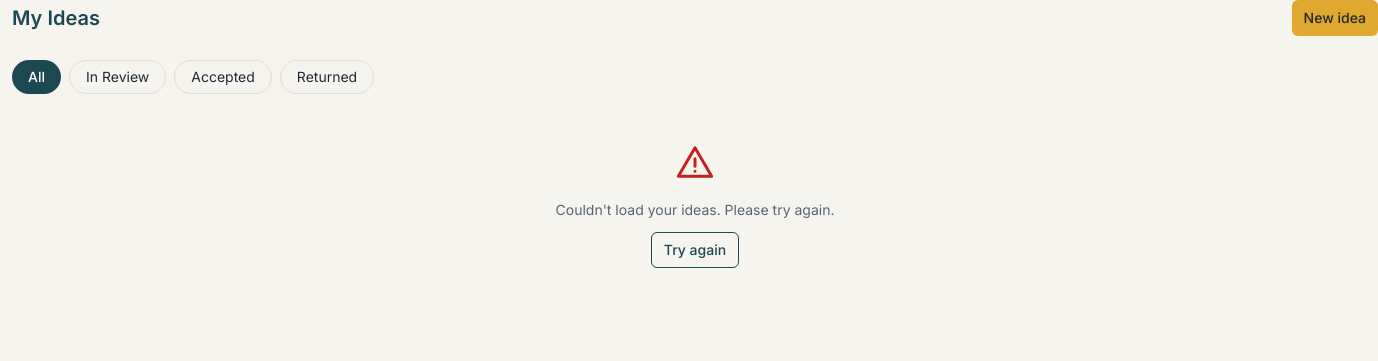
Test case: MyIdeasComponent › renders the error state and retries the fetch when the "Try again" button is clicked
Click the button "Try again" at (695, 250), box [651,232,739,268]
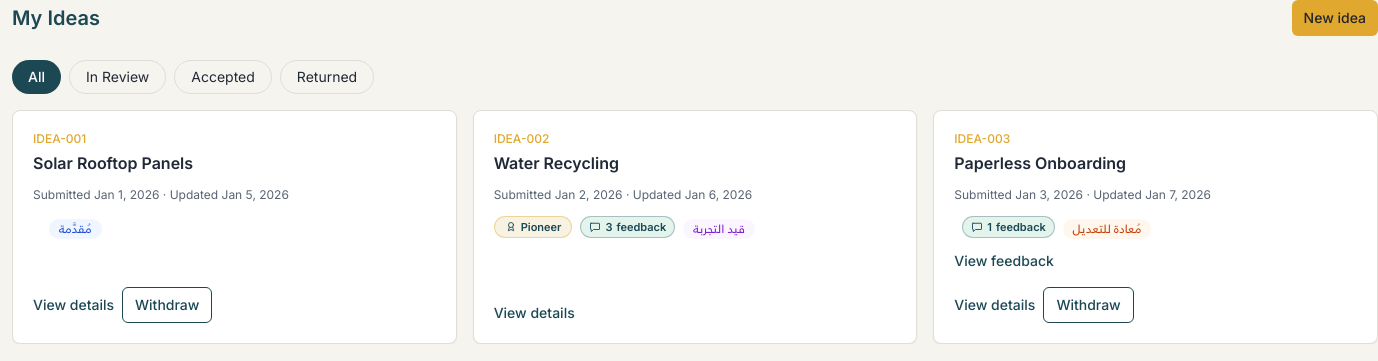
Check: the text "IDEA-001" is shown, box [33,131,86,146]
